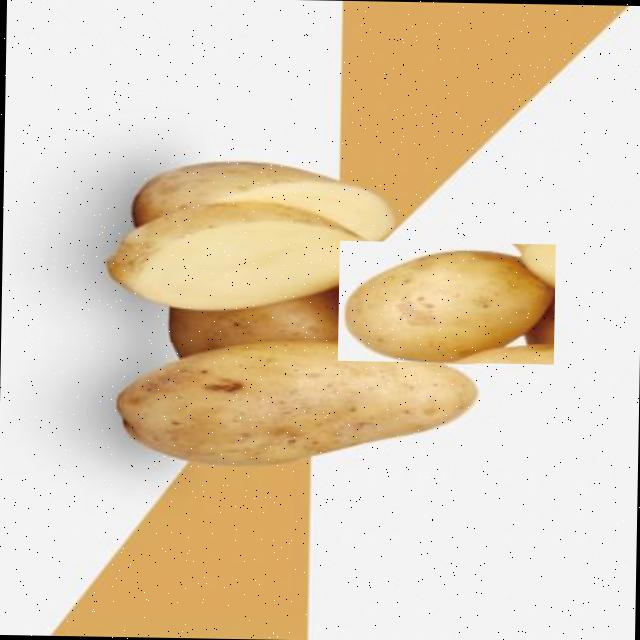Potato: (109, 336, 486, 471), (97, 201, 379, 318), (336, 240, 554, 364)
